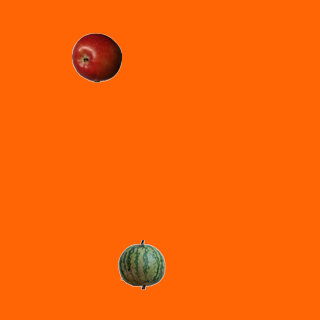Apple Braeburn: (71, 32, 121, 82)
Watermelon: (116, 239, 166, 289)
